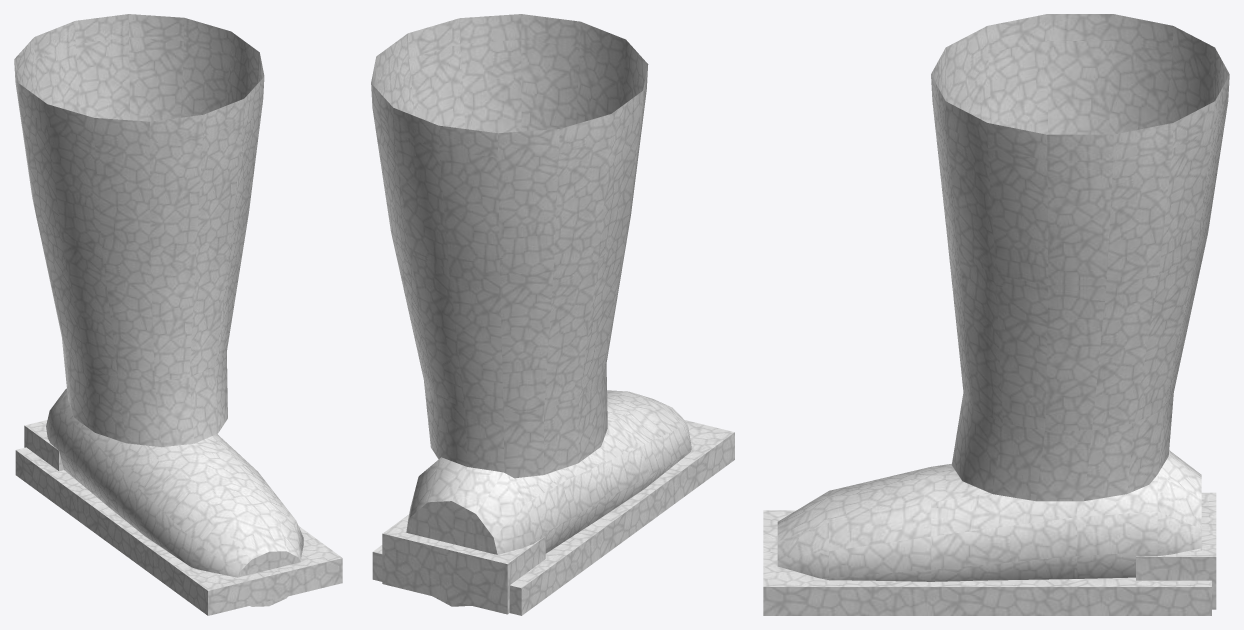
Rendered from shoes_boots_l.glb.
The picture shows the model from 3 angles, left to right: view 1: azimuth 30°, elevation 25°; view 2: azimuth 150°, elevation 25°; view 3: azimuth 270°, elevation 25°; orthographic projection. The views are drawn at different scales.
Visible parts, largest first — view 1: shoes_boots_l; view 2: shoes_boots_l; view 3: shoes_boots_l.
Boxes of the visible parts, x1=… form: shoes_boots_l: x1=14, y1=14, x2=342, y2=615; shoes_boots_l: x1=371, y1=14, x2=734, y2=615; shoes_boots_l: x1=763, y1=14, x2=1229, y2=615.
Size of the model in its own units: 0.1955 by 0.39 by 0.3193.
1 material, 1 textured.
